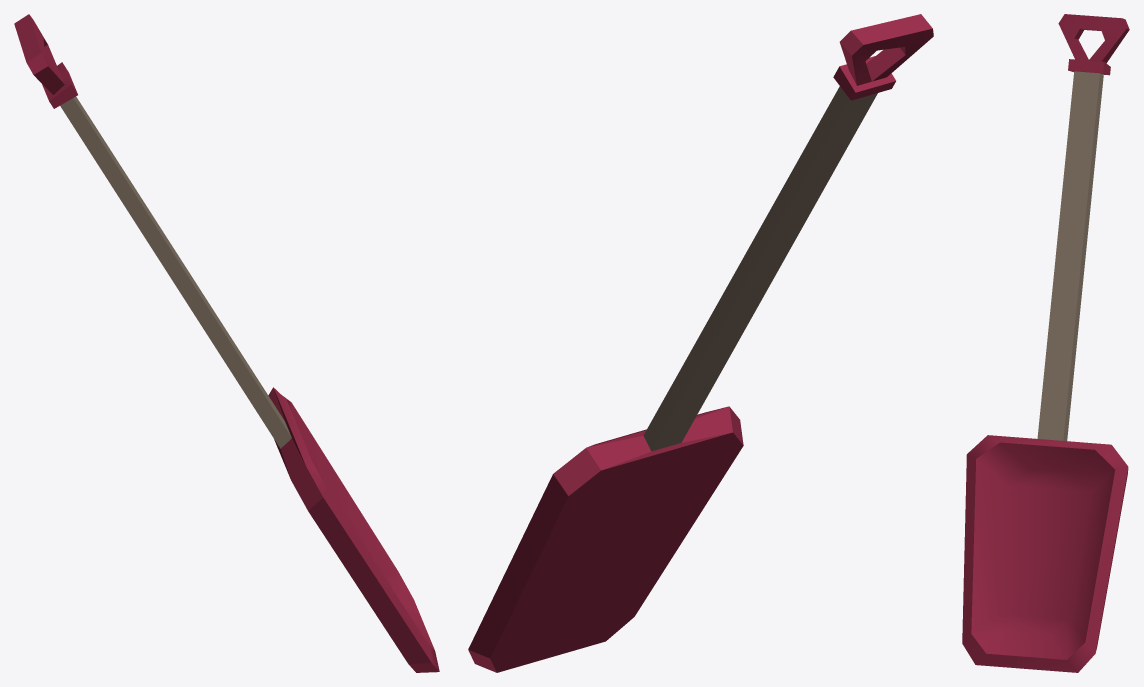
File: shovel.fbx
The picture shows the model from 3 angles, left to right: view 1: azimuth 30°, elevation 25°; view 2: azimuth 150°, elevation 25°; view 3: azimuth 270°, elevation 25°; orthographic projection. The views are drawn at different scales.
Parts seen in each view (by area): view 1: SM_SandCastle_02; view 2: SM_SandCastle_02; view 3: SM_SandCastle_02.
Boxes of the visible parts, left/top/right/bottom form: SM_SandCastle_02: left=14, top=14, right=439, bottom=672; SM_SandCastle_02: left=468, top=14, right=933, bottom=672; SM_SandCastle_02: left=962, top=14, right=1129, bottom=672.
Size of the model in its own units: 71.94 by 117 by 33.79.
